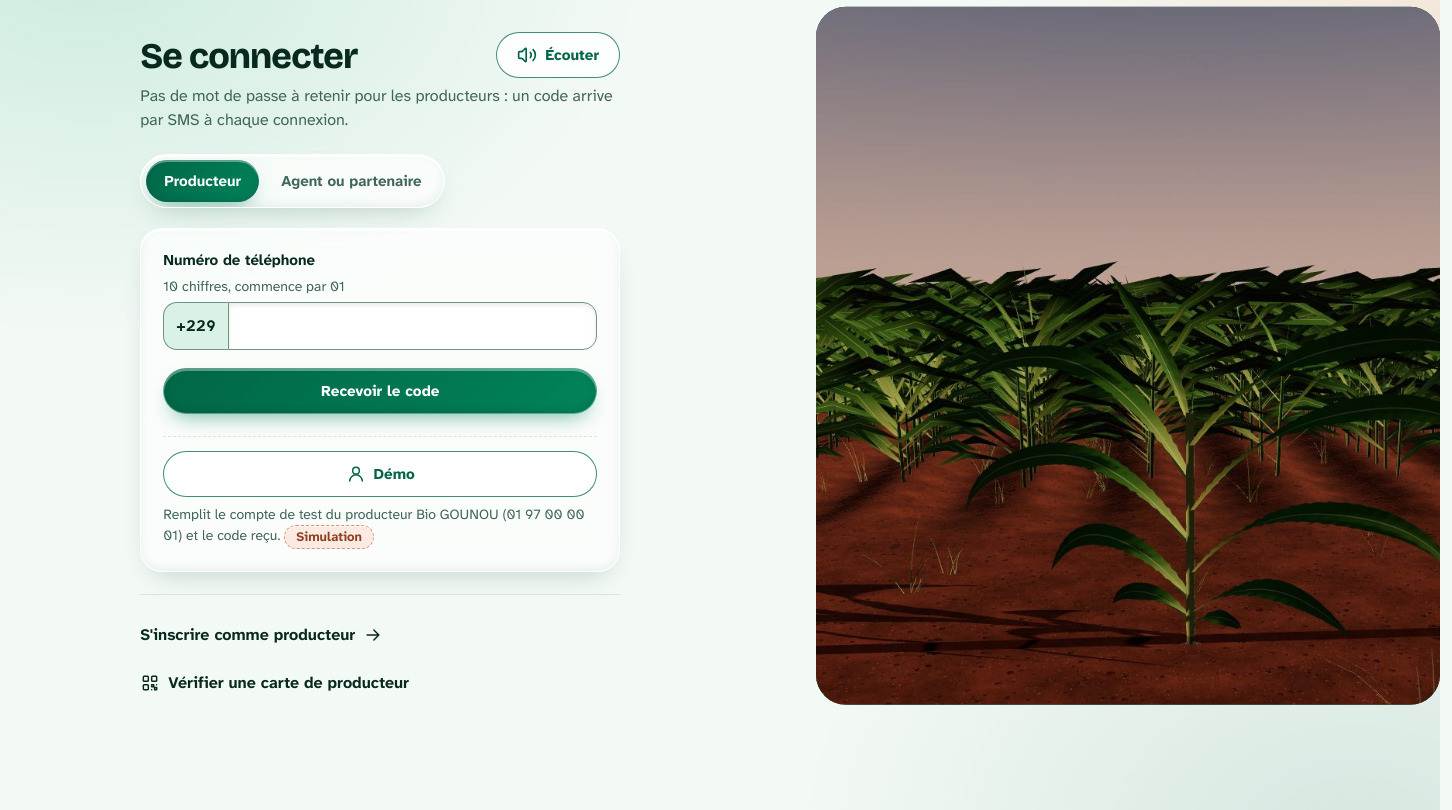
Scenario: Connexion › refuse un téléphone mal formé avec un message qui dit comment corriger
In the field labelled "Numéro de téléphone": (413, 326) x1=228 y1=302 x2=597 y2=350, type "12345"
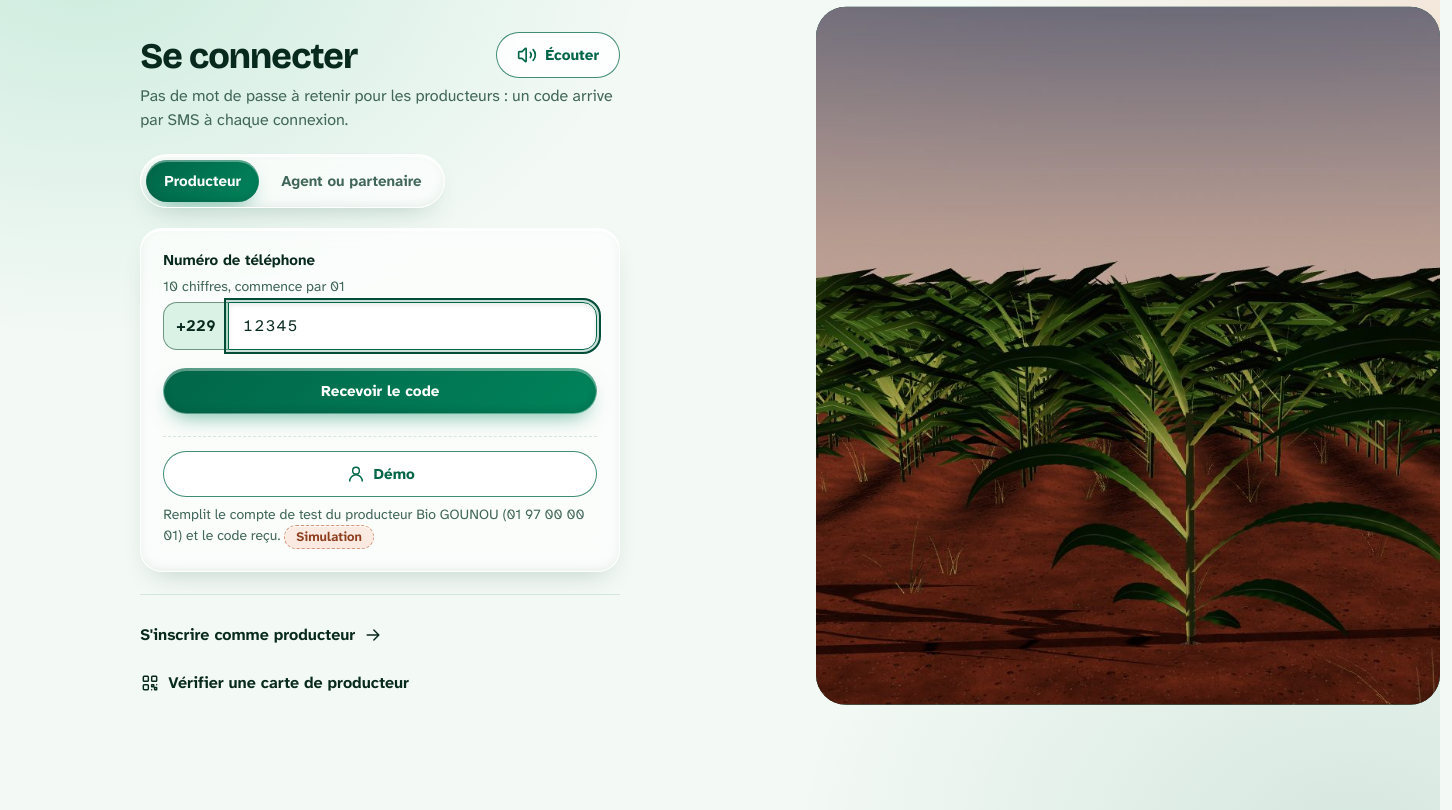
Click the button "Recevoir le code": (380, 391) x1=163 y1=368 x2=597 y2=414
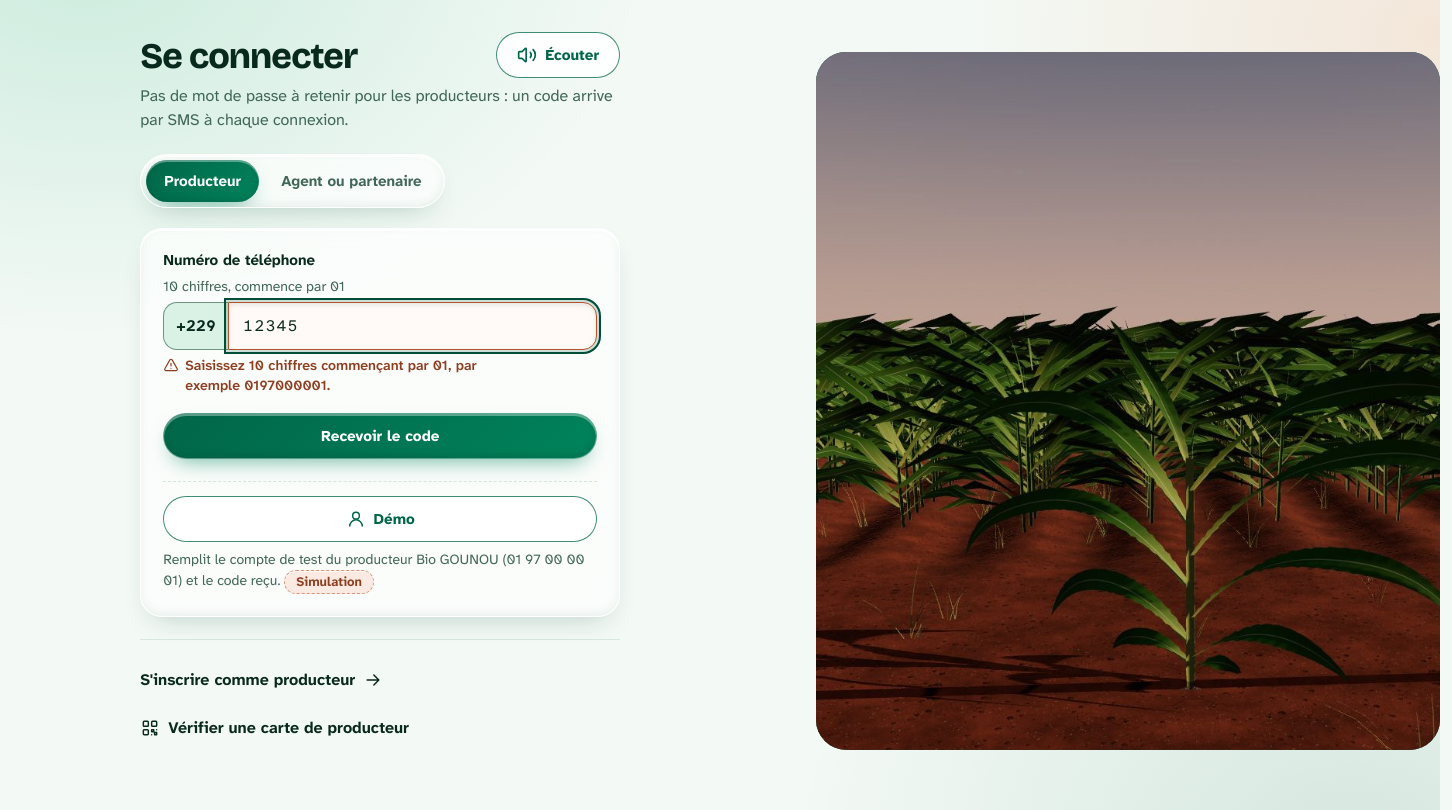
Expected: the text "Saisissez 10 chiffres commençant par 01, par exemple 0197000001." is shown, x1=163 y1=356 x2=477 y2=394
